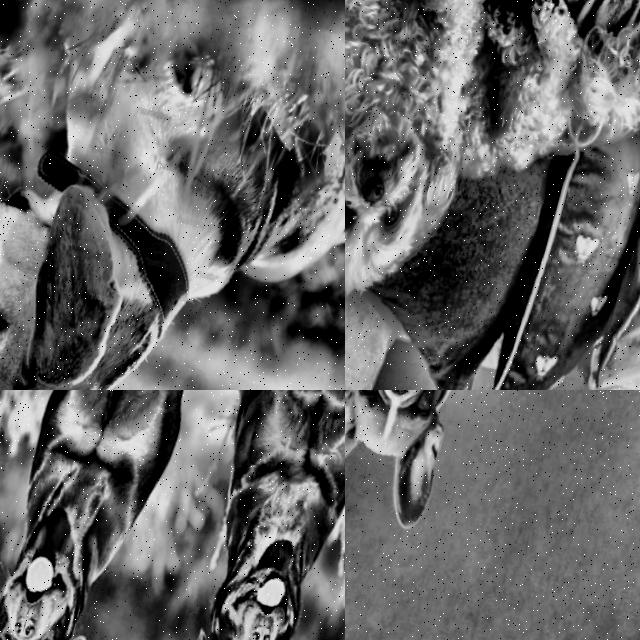beagle: (0, 113, 220, 390)
bulldog: (345, 390, 497, 559)
poodle: (345, 65, 489, 340)
rottweiler: (157, 519, 345, 640), (0, 507, 129, 640)
